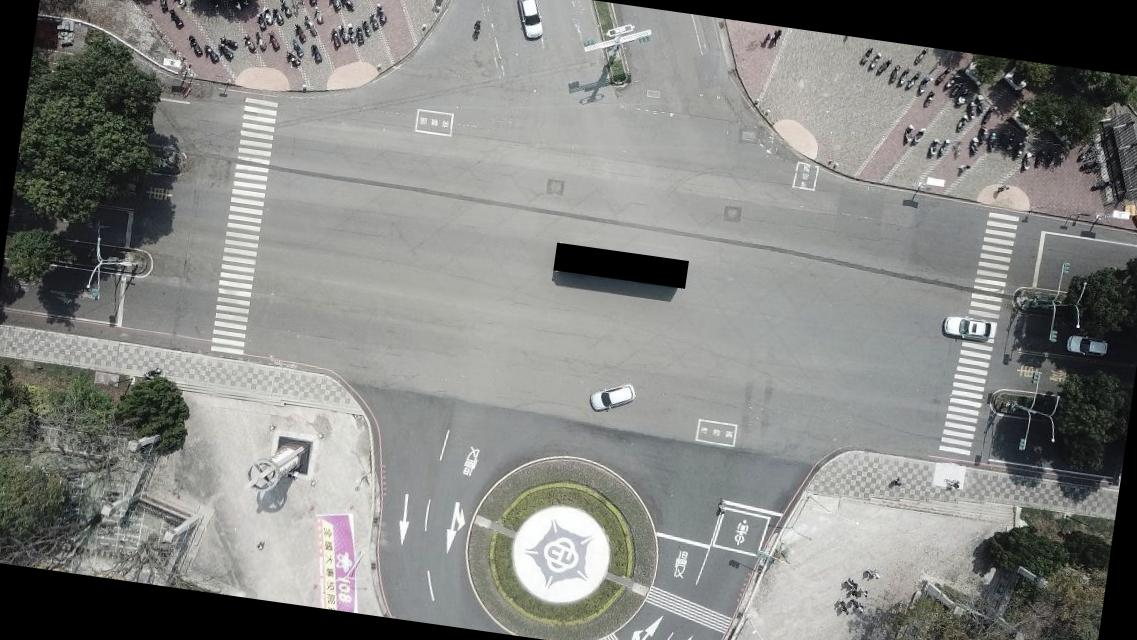vehicle: (586, 378, 639, 417), (940, 313, 999, 344), (512, 0, 550, 45), (1066, 332, 1112, 358)
